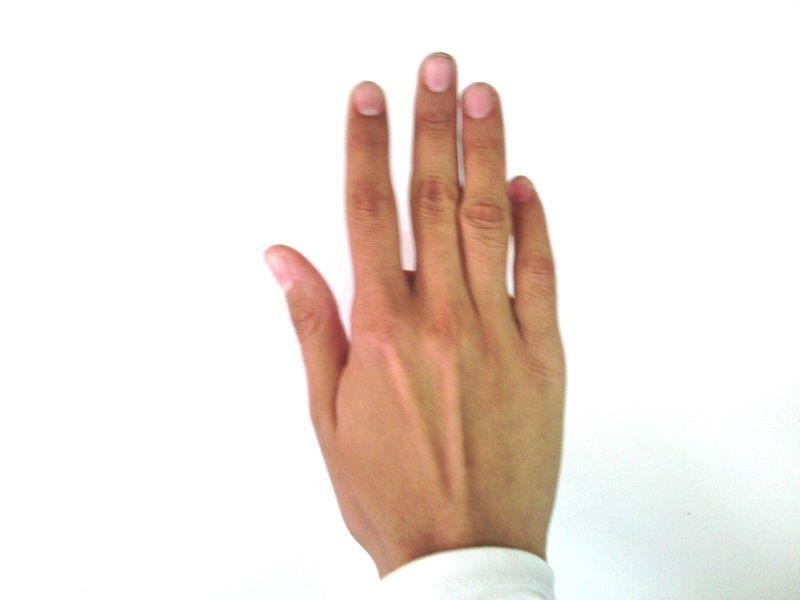hand: (265, 51, 565, 556)
